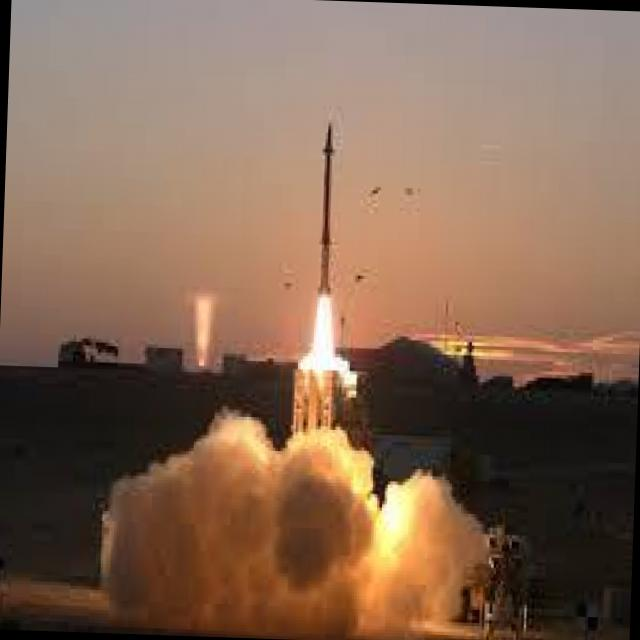rocket: (306, 106, 345, 377)
